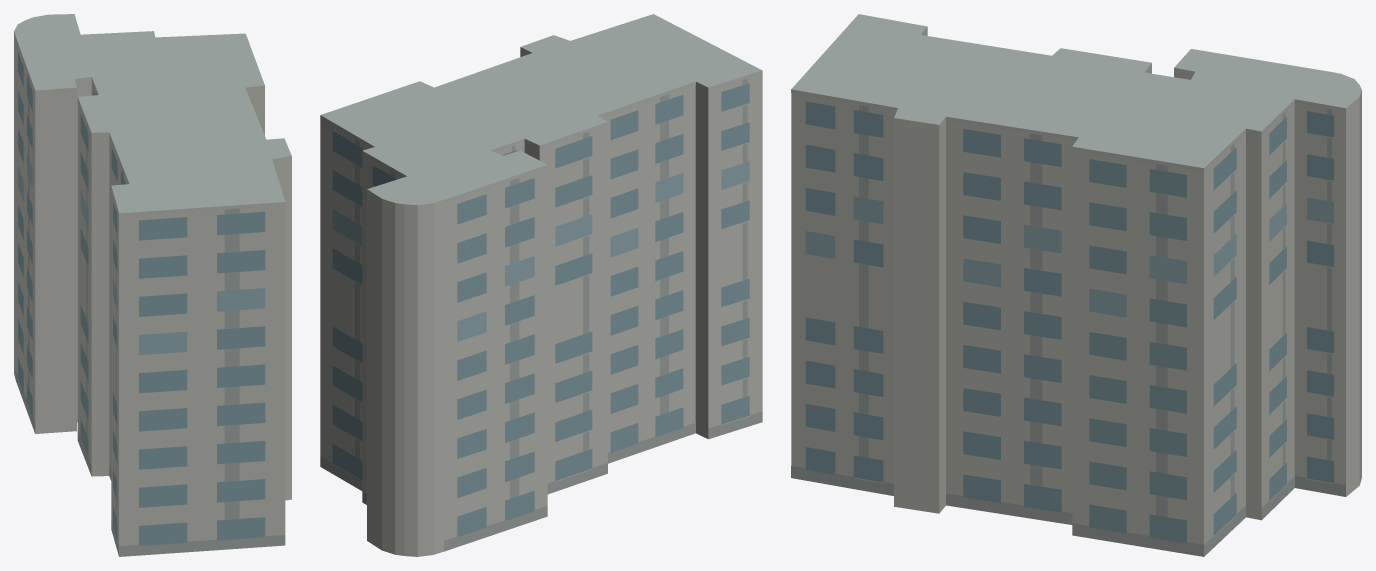
The model's file is survey-upis-32869327.glb.
3 renders of one model, left to right at view 1: azimuth 30°, elevation 25°; view 2: azimuth 150°, elevation 25°; view 3: azimuth 270°, elevation 25°, orthographic. The views are drawn at different scales.
Parts seen in each view (by area): view 1: survey-upis-32869327.tmp; view 2: survey-upis-32869327.tmp; view 3: survey-upis-32869327.tmp.
Boxes of the visible parts, <box> form: survey-upis-32869327.tmp: <box>14,14,291,556</box>; survey-upis-32869327.tmp: <box>320,14,762,556</box>; survey-upis-32869327.tmp: <box>791,14,1361,556</box>.
Bounding box in the file's own units: 21.53 × 25.3 × 33.67.
